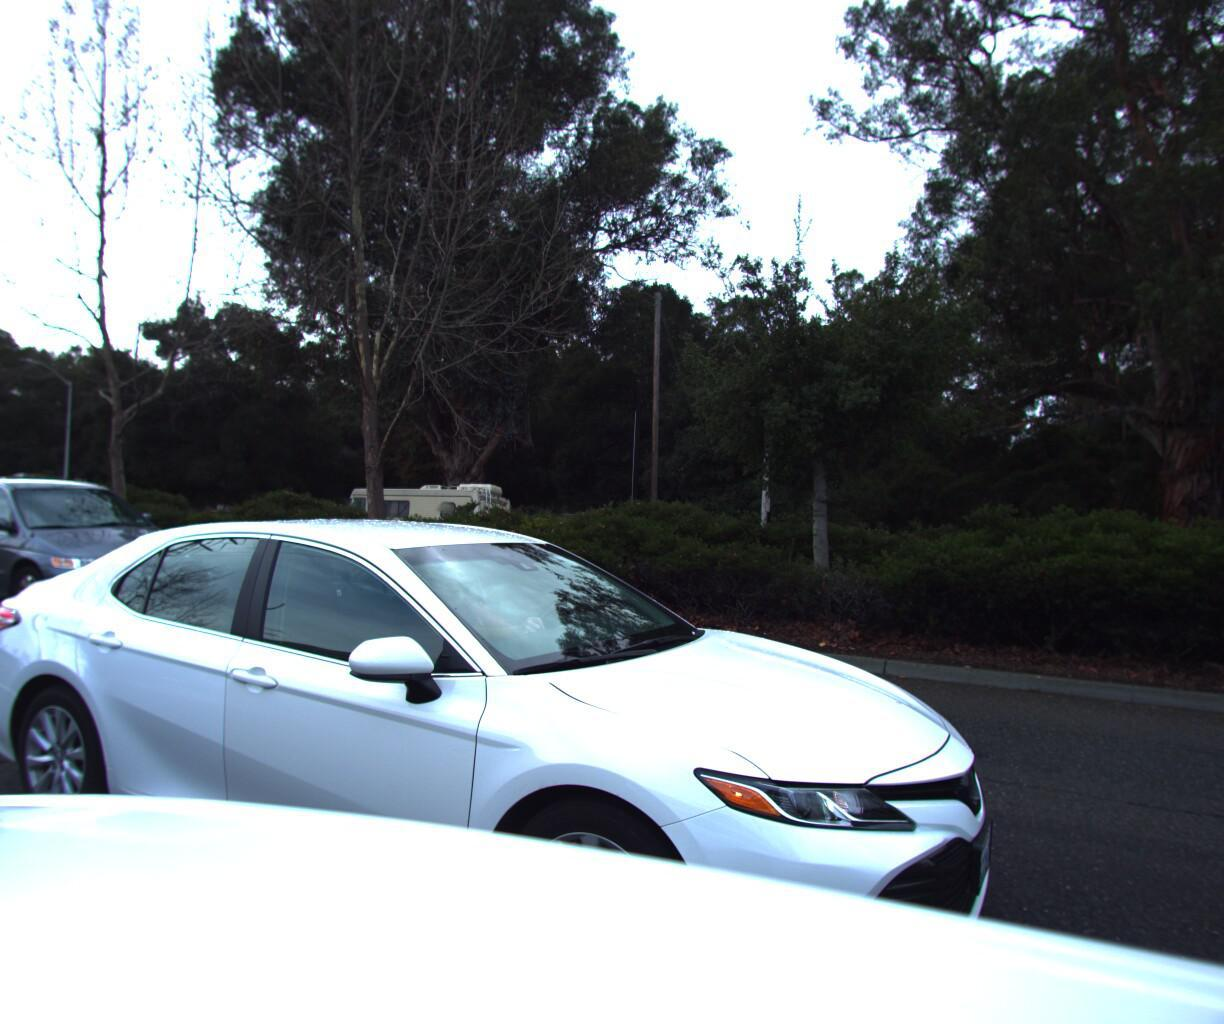car: (0, 494, 1026, 1024), (0, 478, 204, 639)
other_vehicle: (322, 485, 522, 577), (0, 478, 94, 548)
